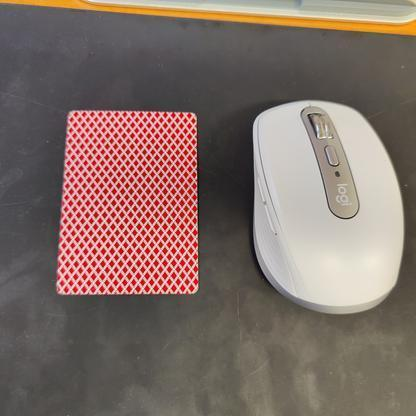card: (49, 99, 206, 301)
